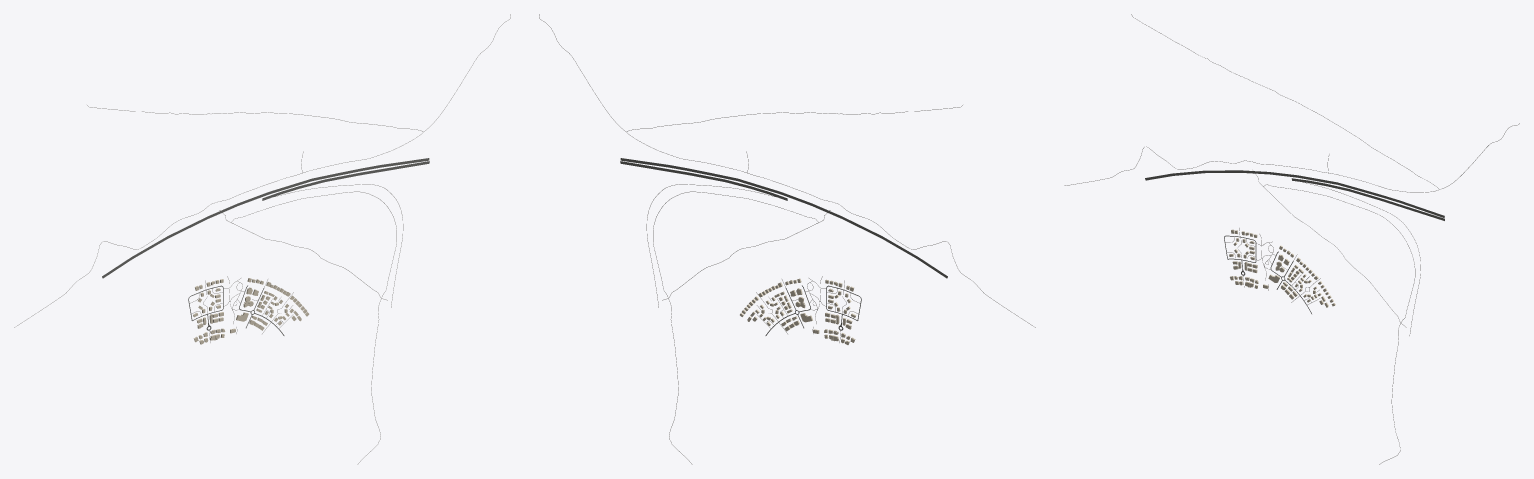
File: historic-palestine-06_24_3482_3180.glb
3 renders of one model, left to right at view 1: azimuth 30°, elevation 25°; view 2: azimuth 150°, elevation 25°; view 3: azimuth 330°, elevation 25°, orthographic. The views are drawn at different scales.
Visible parts, largest first — view 1: Road 7.002, Road 7.001, Road .007; view 2: Road 7.002, Road 7.001, Road .007; view 3: Road 7.002, Road 7.001.
Boxes of the visible parts, x1=… form: Road 7.002: x1=102, y1=170, x2=352, y2=278; Road 7.001: x1=262, y1=161, x2=429, y2=200; Road .007: x1=14, y1=14, x2=510, y2=327; Road 7.002: x1=697, y1=170, x2=947, y2=278; Road 7.001: x1=620, y1=161, x2=787, y2=200; Road .007: x1=539, y1=14, x2=1035, y2=327; Road 7.002: x1=1145, y1=170, x2=1374, y2=195; Road 7.001: x1=1291, y1=178, x2=1444, y2=220.
Bounding box in the file's own units: 2342 × 1921 × 8.7.
